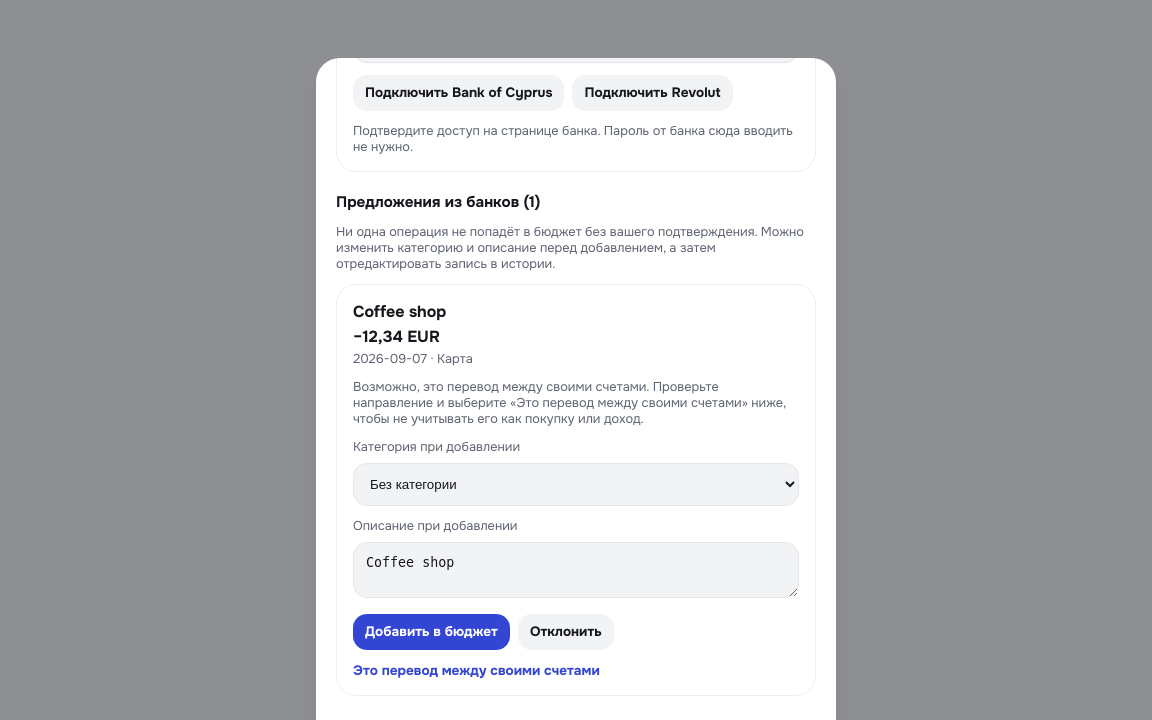
Test case: BankingSheet proposals › requires an explicit other account for a expense transfer
This screenshot has width=1152, height=720.
Later steps or results of the test are not shown.
(page scrolled)
Click the button "Это перевод между своими счетами": (476, 670) [353,662,600,679]
(page scrolled)
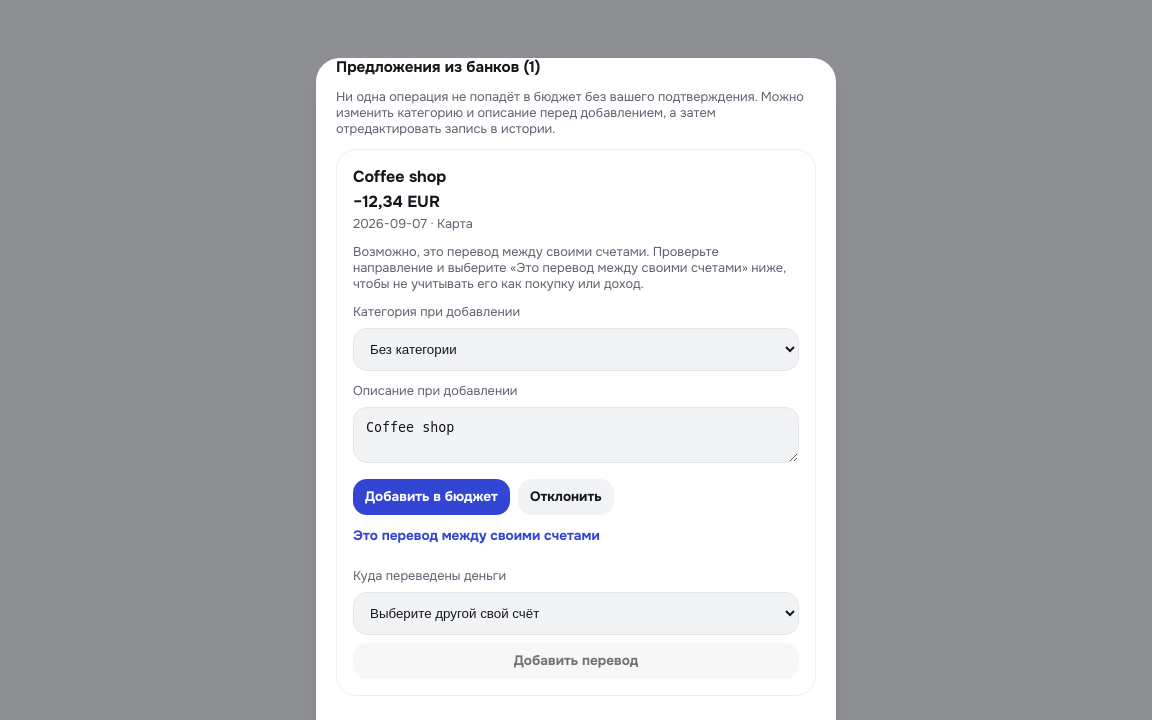
Expected: the button "Добавить перевод" is disabled, [353,643,799,679]
